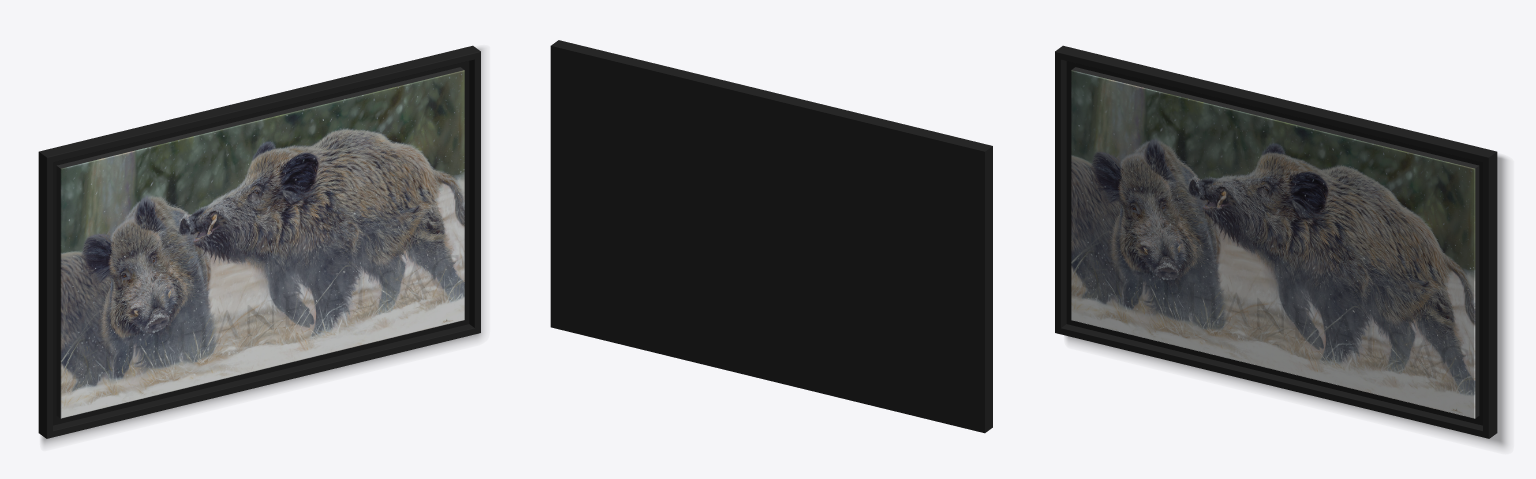
Rendered from tableau-peinture-sangliers-neige-grand-3afe172f.glb.
3 views of the same model, side by side, from view 1: azimuth 30°, elevation 25°; view 2: azimuth 150°, elevation 25°; view 3: azimuth 330°, elevation 25° (orthographic).
Visible parts, largest first — view 1: Painting; view 2: Painting; view 3: Painting.
Part boxes in pixels (left/top/right/bottom): Painting: left=38, top=45, right=482, bottom=444; Painting: left=550, top=40, right=992, bottom=433; Painting: left=1055, top=45, right=1506, bottom=447.
Bounding box in the file's own units: 1.38 × 0.906 × 0.04.
Materials: 5 (3 with a texture image).
